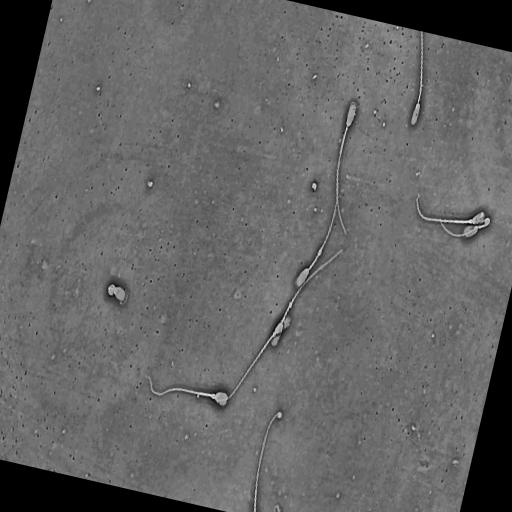coiled-tail: (108, 284, 116, 297)
distal-droplet: (318, 248, 322, 257), (288, 302, 292, 309)
folded-tail: (439, 218, 489, 237)
loose-tail: (252, 405, 282, 512)
normal: (269, 246, 344, 348), (215, 314, 292, 406), (294, 168, 340, 291), (138, 370, 230, 412), (335, 99, 360, 240), (415, 197, 486, 226), (407, 32, 425, 132), (439, 217, 491, 240), (105, 279, 128, 305)
proximal-droplet: (211, 392, 216, 399), (469, 219, 473, 223)
